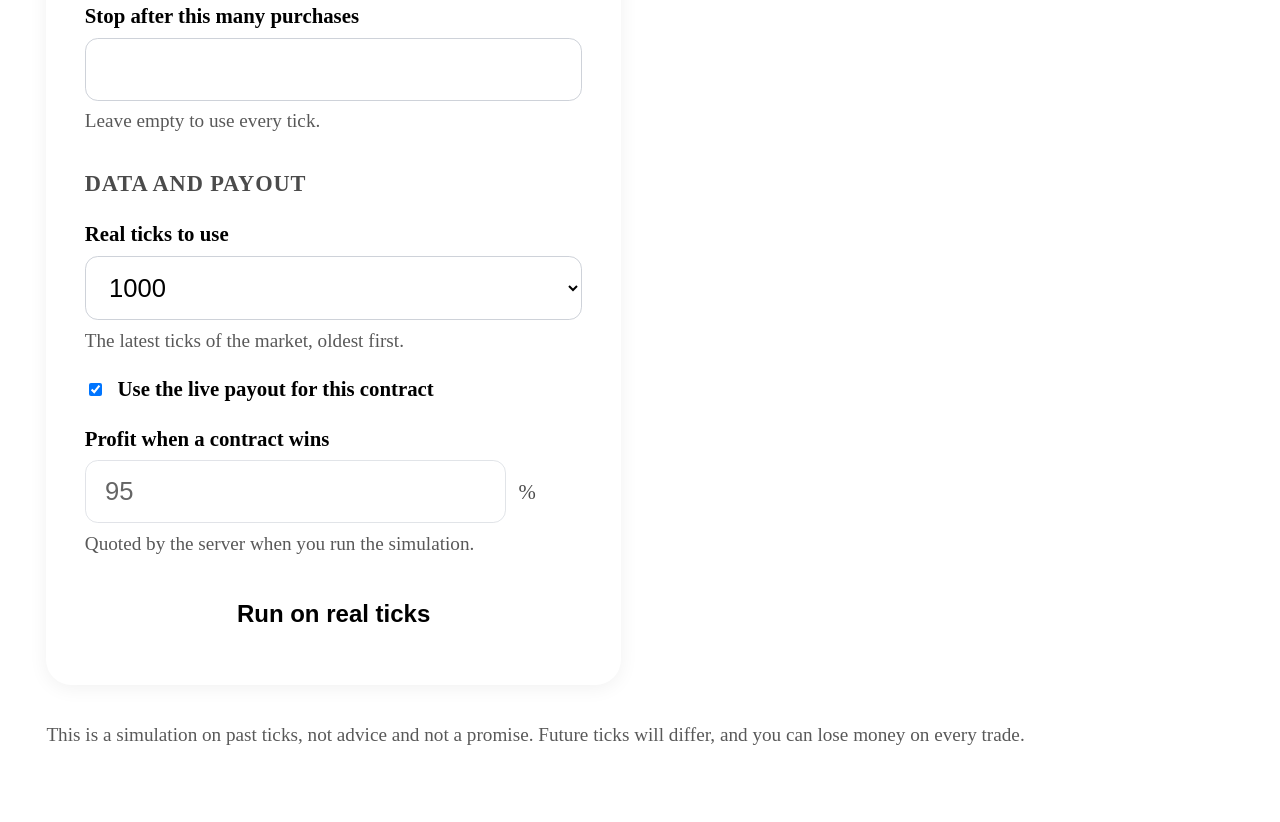
<BulkTrader /> › does not ask for a quote when the live payout is turned off
The image size is (1280, 822).
(page scrolled)
Click the checkbox with test id "dt_bulk_live_payout": [95, 389] box [89, 383, 102, 396]
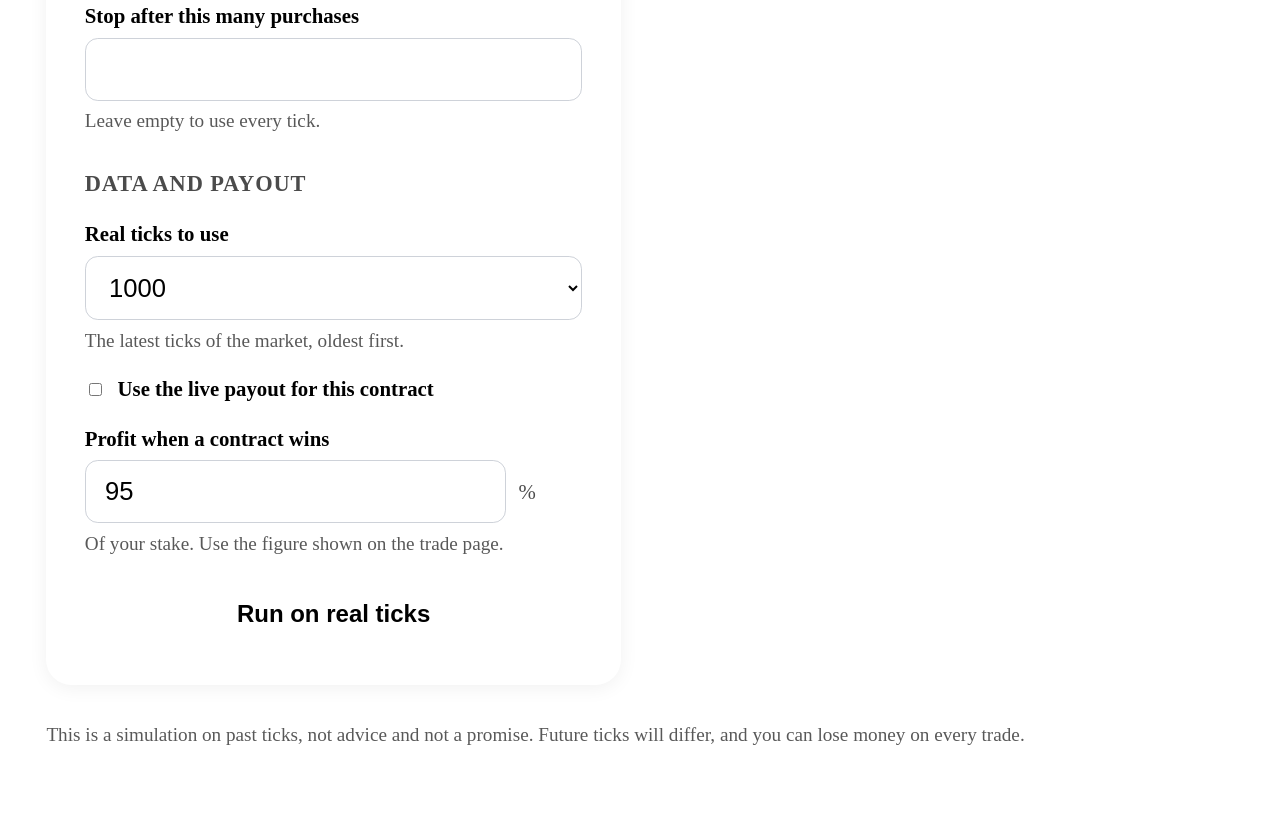
Replace the text in the number field with test id "dt_bulk_payout" with "100": [295, 492] box [85, 460, 506, 523]
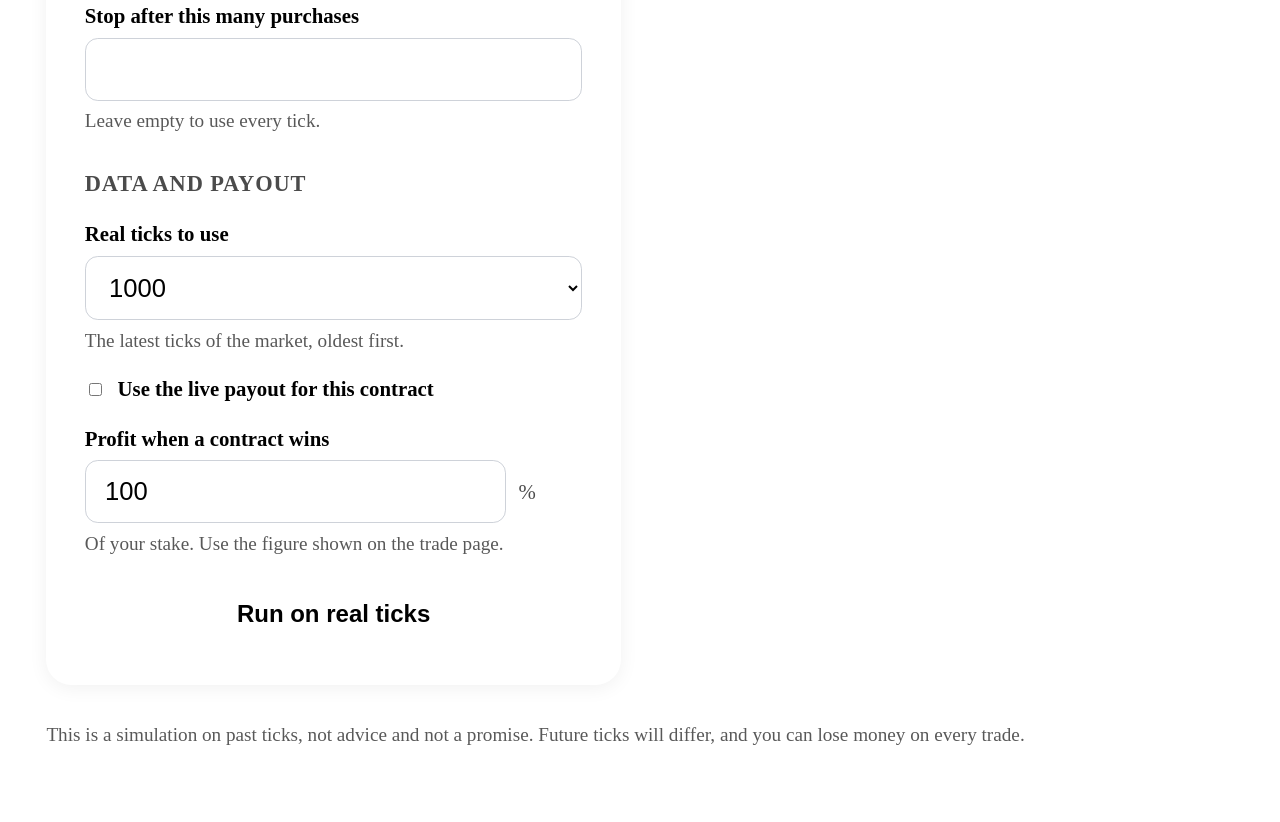
Click the button with test id "dt_bulk_run": [334, 614] box [85, 581, 582, 647]
(page scrolled)
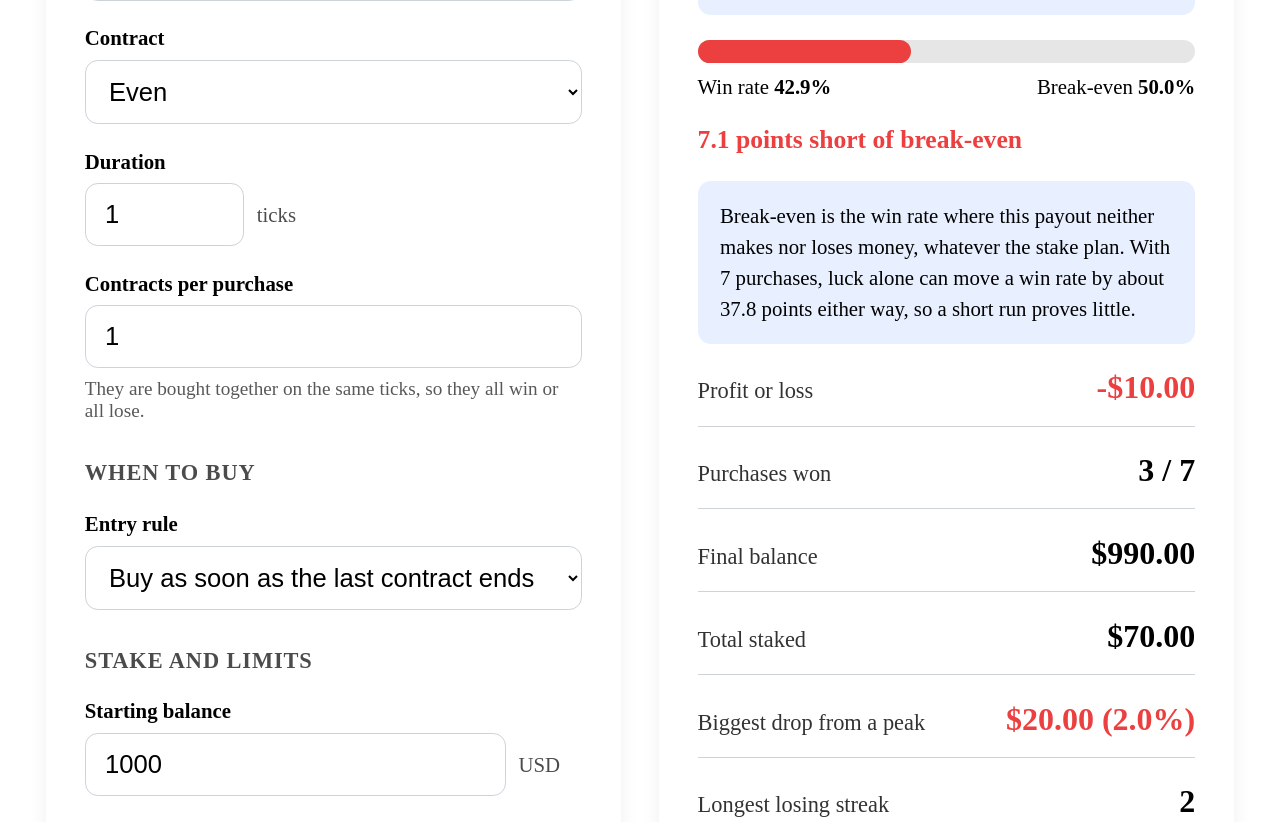
Check: the picture with test id "dt_stake_gauge" shows "Break-even 50.0%", box [698, 40, 1195, 100]
Check: the text with test id "dt_bulk_profit" shows "10.00", box [1097, 369, 1195, 405]
